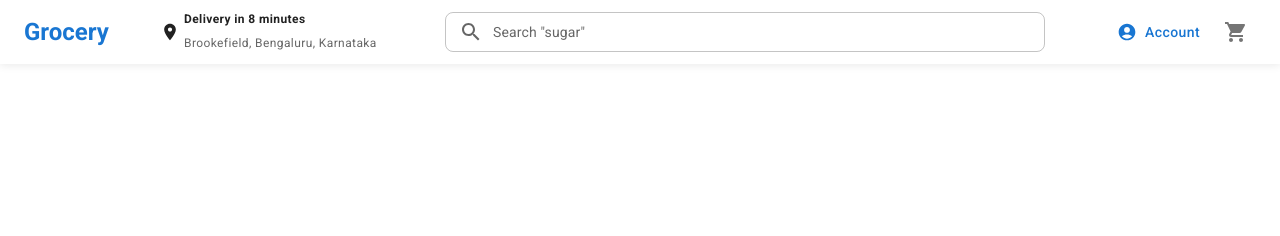
Test: Header Component › shows user name when authenticated
Note: Click the Account button to open the menu
Click the button "Account" at [1161, 32], box [1113,14,1208,50]
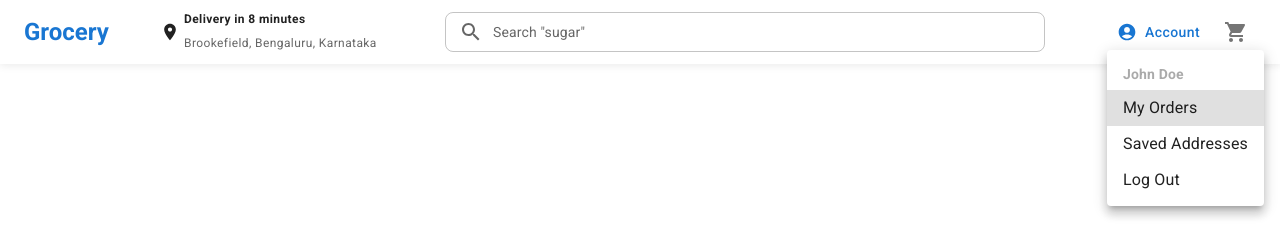
Expected: the text "John Doe" is shown, [1123,64,1184,84]
